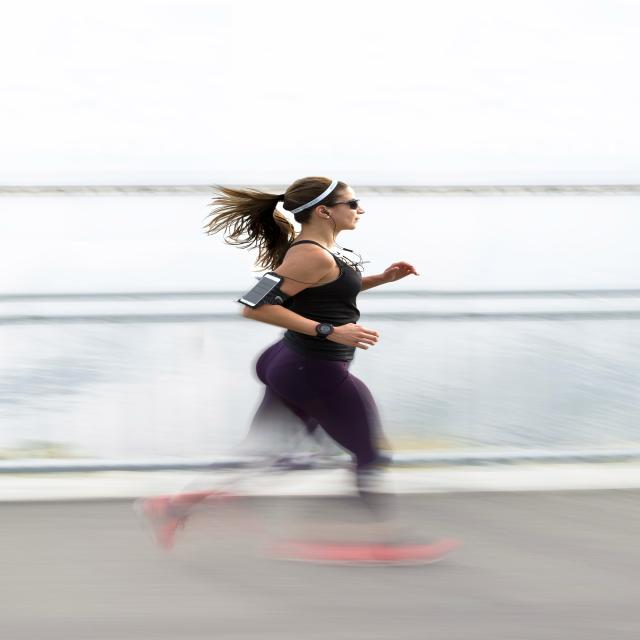adult: (153, 174, 419, 562)
